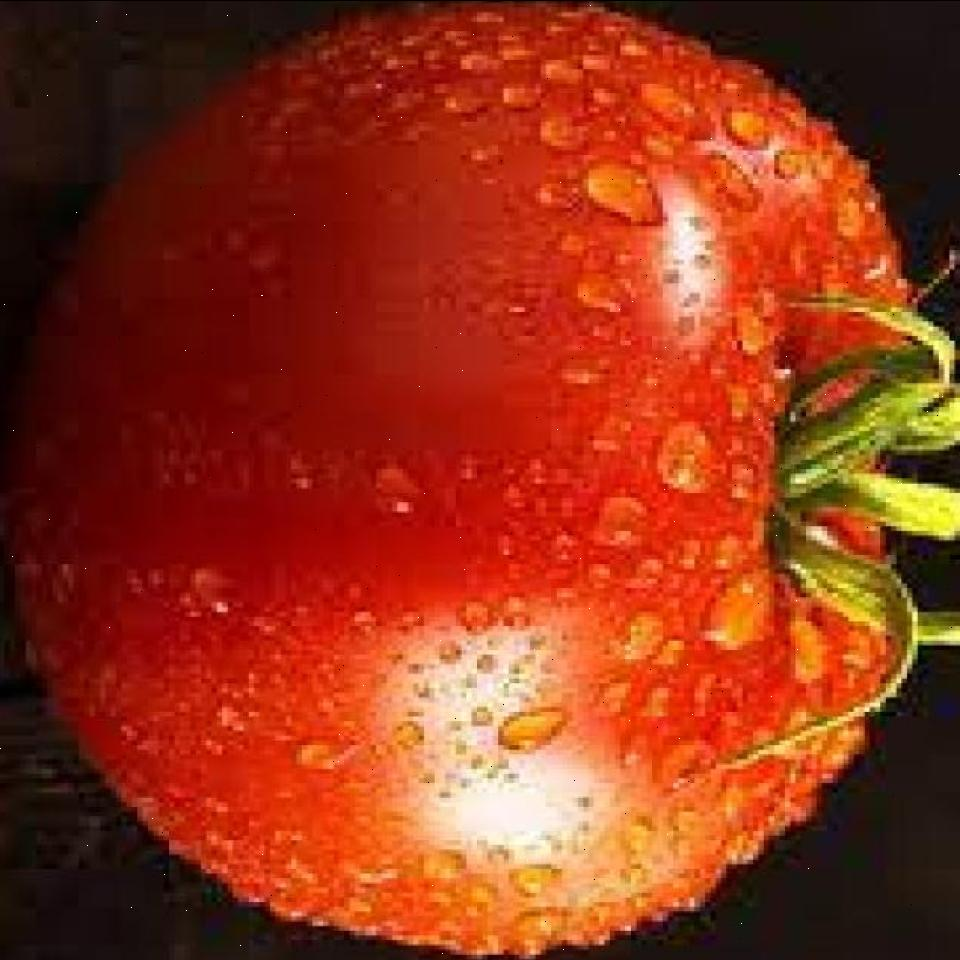Healthy: (12, 15, 939, 960)
